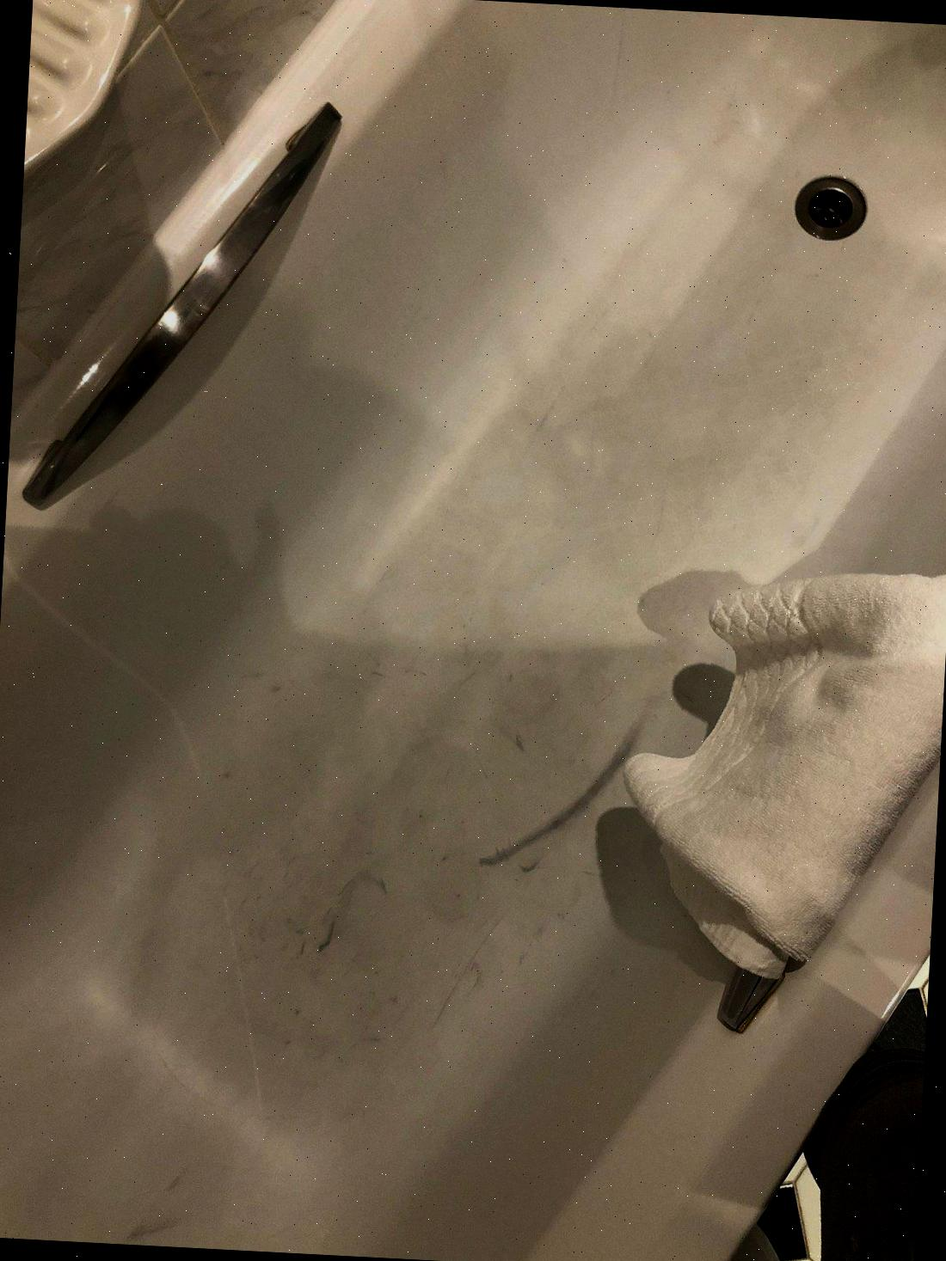dirty_bathtub: (0, 0, 946, 1261)
folded_towel: (611, 546, 922, 1013)
